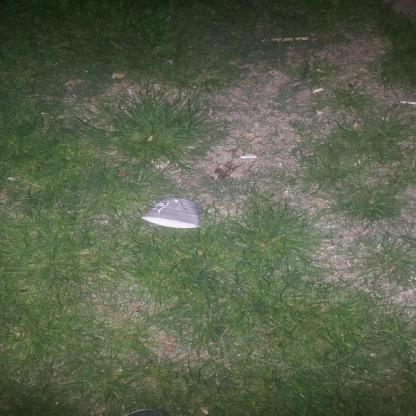Cigarette: (399, 101, 416, 105), (240, 156, 257, 158)
Cup: (142, 197, 200, 228)
